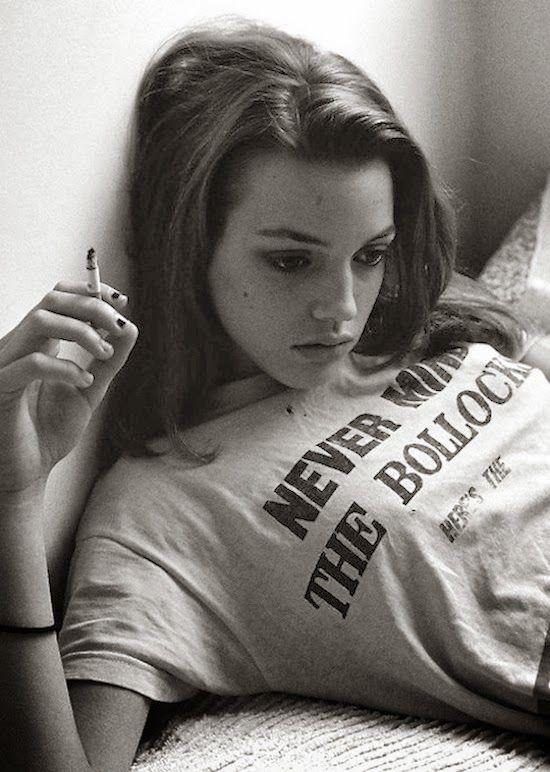cigarette: (86, 247, 101, 301)
